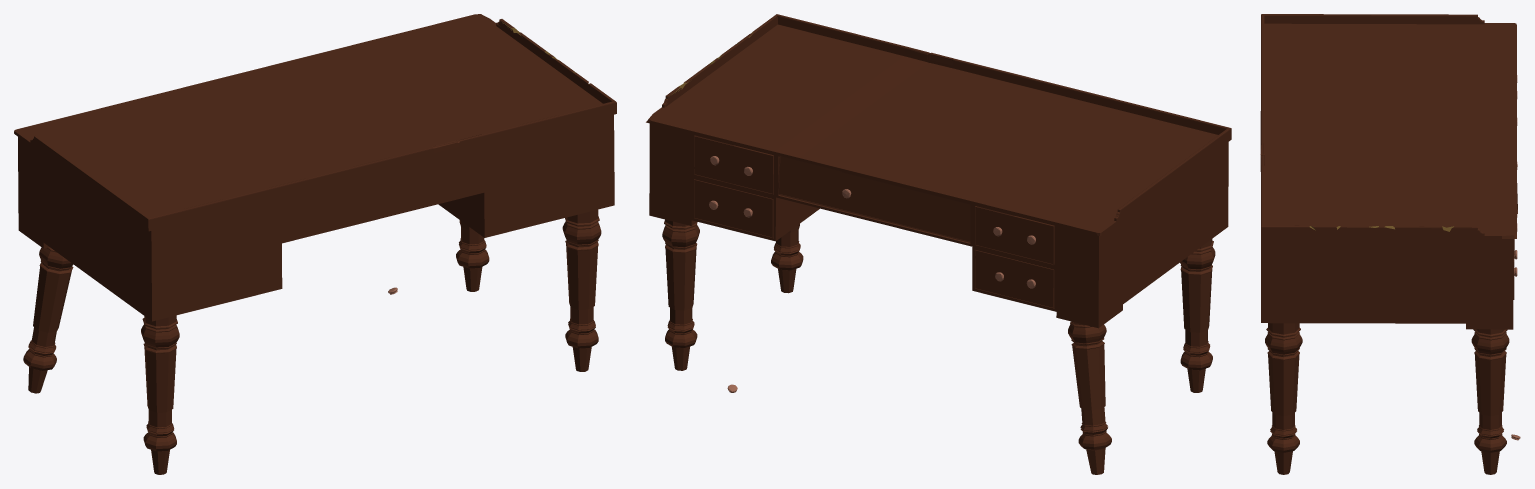
The model's file is table_broken.glb.
3 renders of one model, left to right at view 1: azimuth 30°, elevation 25°; view 2: azimuth 150°, elevation 25°; view 3: azimuth 270°, elevation 25°, orthographic. The views are drawn at different scales.
Visible parts, largest first — view 1: table_top_broken, table_structure, leg_l_front; view 2: table_top_broken, table_structure, leg_l_front, table_drawers_,middle, table_drawers_top, table_drawers_bottom, Knobs; view 3: table_top_broken, table_structure, leg_l_front.
Boxes of the visible parts, box(x1,y1,x2,y2) form: table_top_broken: box(14, 14, 616, 231); table_structure: box(18, 114, 614, 321); leg_l_front: box(23, 209, 601, 474); table_top_broken: box(647, 14, 1231, 235); table_structure: box(646, 121, 1228, 328); leg_l_front: box(662, 219, 1215, 474); table_drawers_,middle: box(778, 155, 975, 242); table_drawers_top: box(694, 135, 1054, 265); table_drawers_bottom: box(693, 179, 1054, 308); Knobs: box(709, 156, 1035, 392); table_top_broken: box(1260, 14, 1516, 238); table_structure: box(1260, 111, 1516, 329); leg_l_front: box(1265, 323, 1509, 474).
Size of the model in its own units: 1.62 by 0.8948 by 0.8237.
